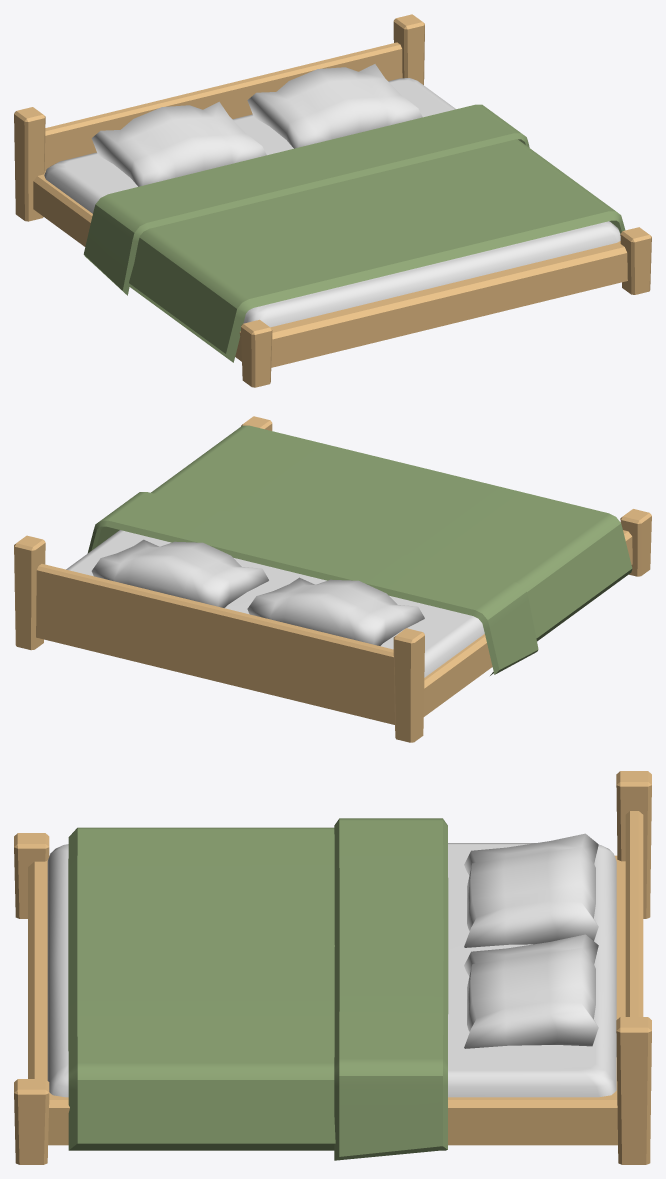
The model's file is bed_double_01.fbx.
3 views of the same model, one above another, from view 1: azimuth 30°, elevation 25°; view 2: azimuth 150°, elevation 25°; view 3: azimuth 270°, elevation 25° (orthographic). The views are drawn at different scales.
Visible parts, largest first — view 1: polySurface72, polySurface77, polySurface74; view 2: polySurface72, polySurface77, polySurface74; view 3: polySurface72, polySurface74, polySurface77.
Boxes of the visible parts, x1,y1,x2,y2 form: polySurface72: (83, 104, 625, 362); polySurface77: (14, 14, 651, 387); polySurface74: (44, 64, 620, 327); polySurface72: (87, 425, 632, 675); polySurface77: (14, 416, 651, 742); polySurface74: (66, 530, 484, 677); polySurface72: (68, 818, 448, 1160); polySurface74: (47, 833, 616, 1097); polySurface77: (14, 771, 651, 1164).
Size of the model in its own units: 17.06 by 4.03 by 17.07.
